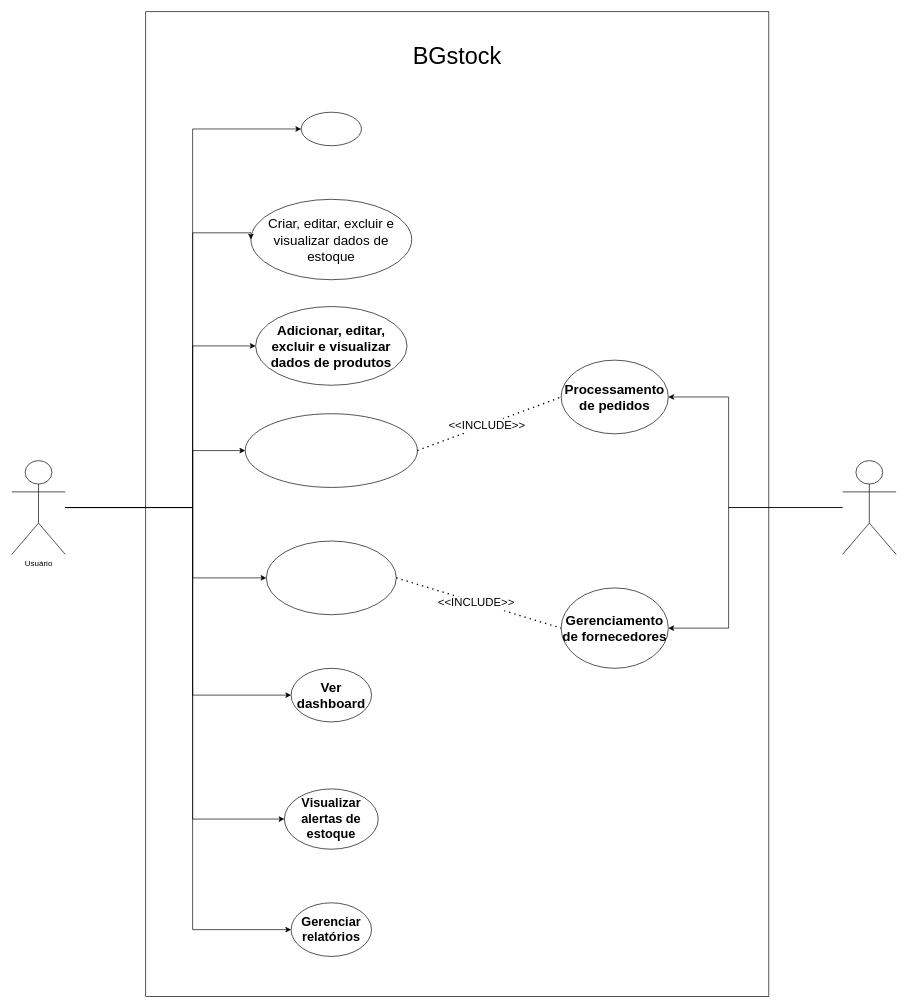
This 909x1008 diagram has some shape labels left out. Here are the shapes that lost their labels. From the top down, the centre of each, then its label:
At (x=330, y=129): "Login".
At (x=331, y=450): "Criar, modificar, cancelar e visualizar dados de pedidos".
At (x=869, y=507): "API de Pedidos".
At (x=331, y=577): "Adicionar, pesquisar, excluir fornecedores".
